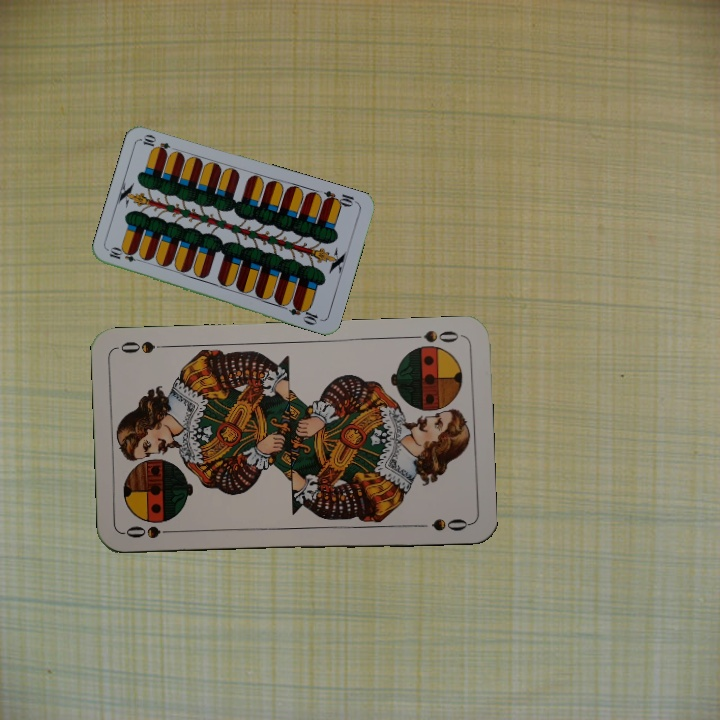E10: (320, 187, 360, 209), (105, 245, 146, 265)
SO: (122, 522, 181, 541), (405, 326, 464, 345)
